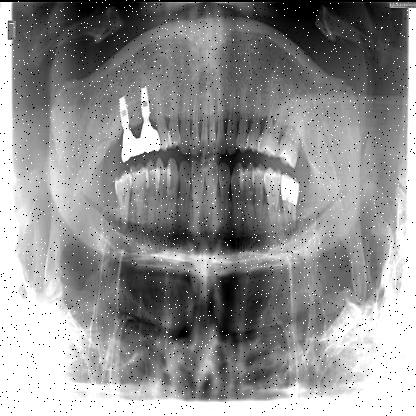Bicon: (138, 78, 153, 122), (117, 88, 131, 128)
